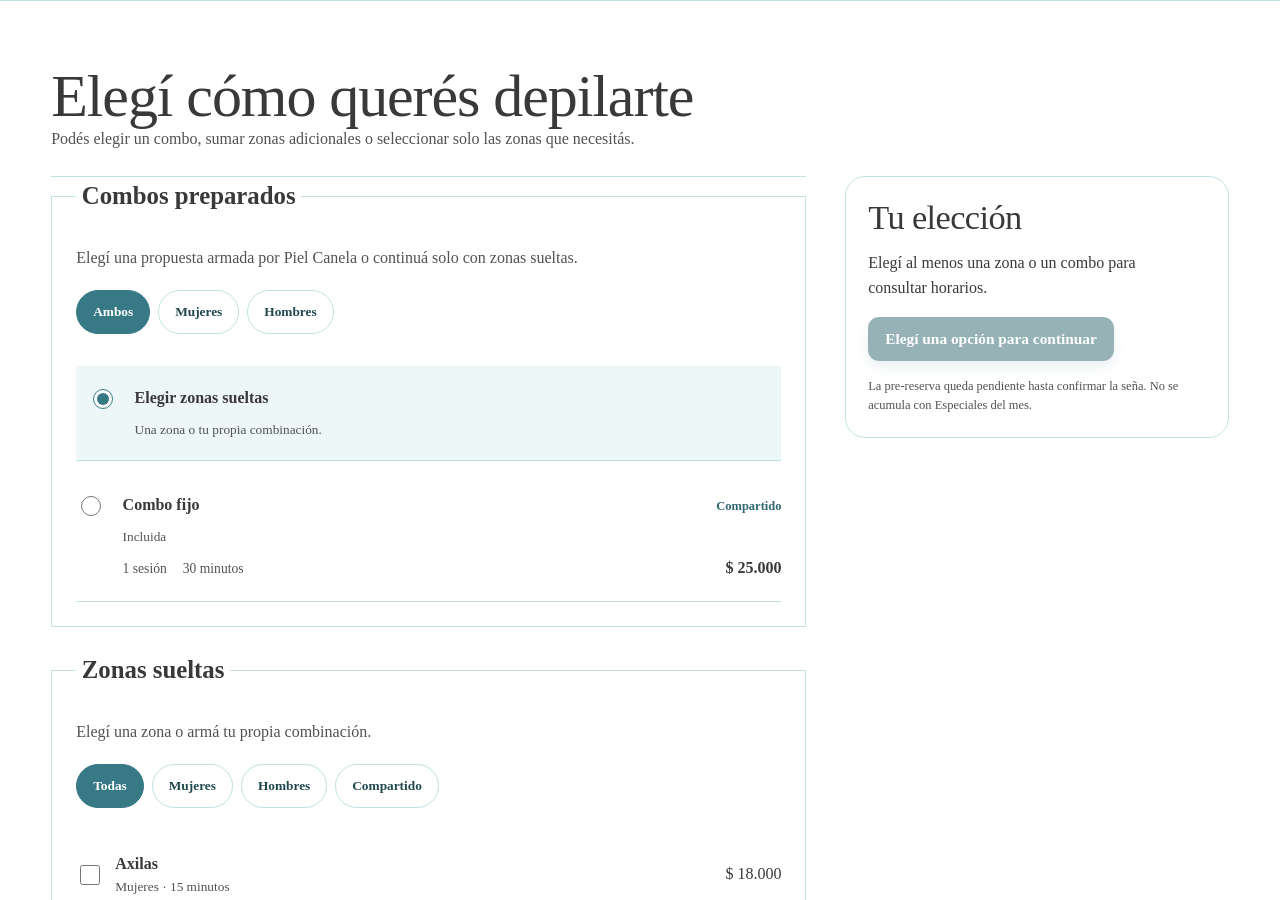
Test case: depilation order selector › discounts loose selections and preserves them across audience filters
Click the checkbox labelled "Axilas Mujeres · 15 minutos $ 18.000". click: (90, 875)
box: [80,865,100,885]
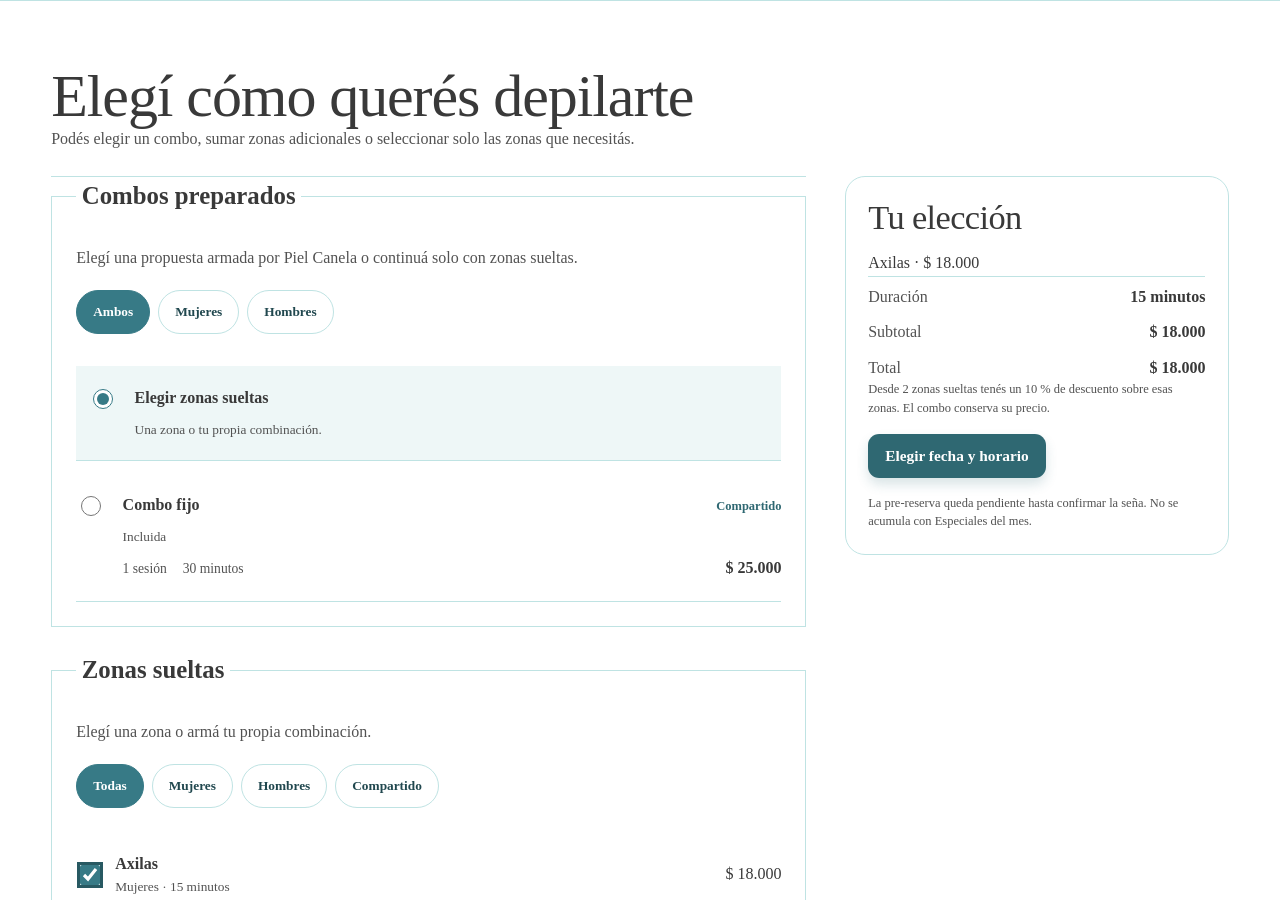
Click the 2nd button "Hombres". click: (284, 786)
box: [241,764,327,808]
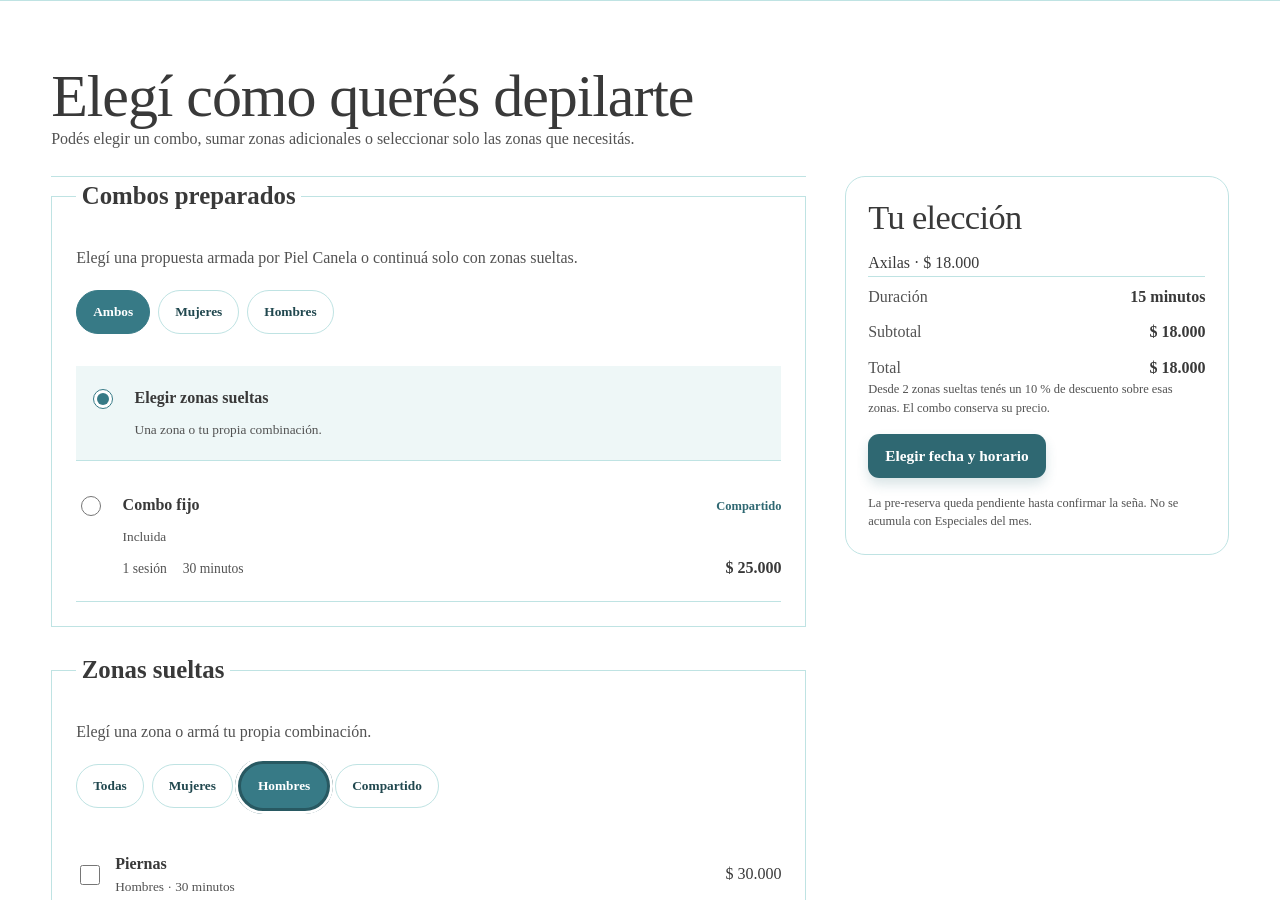
Click the checkbox labelled "Piernas Hombres · 30 minutos $ 30.000". click: (90, 875)
box: [80,865,100,885]
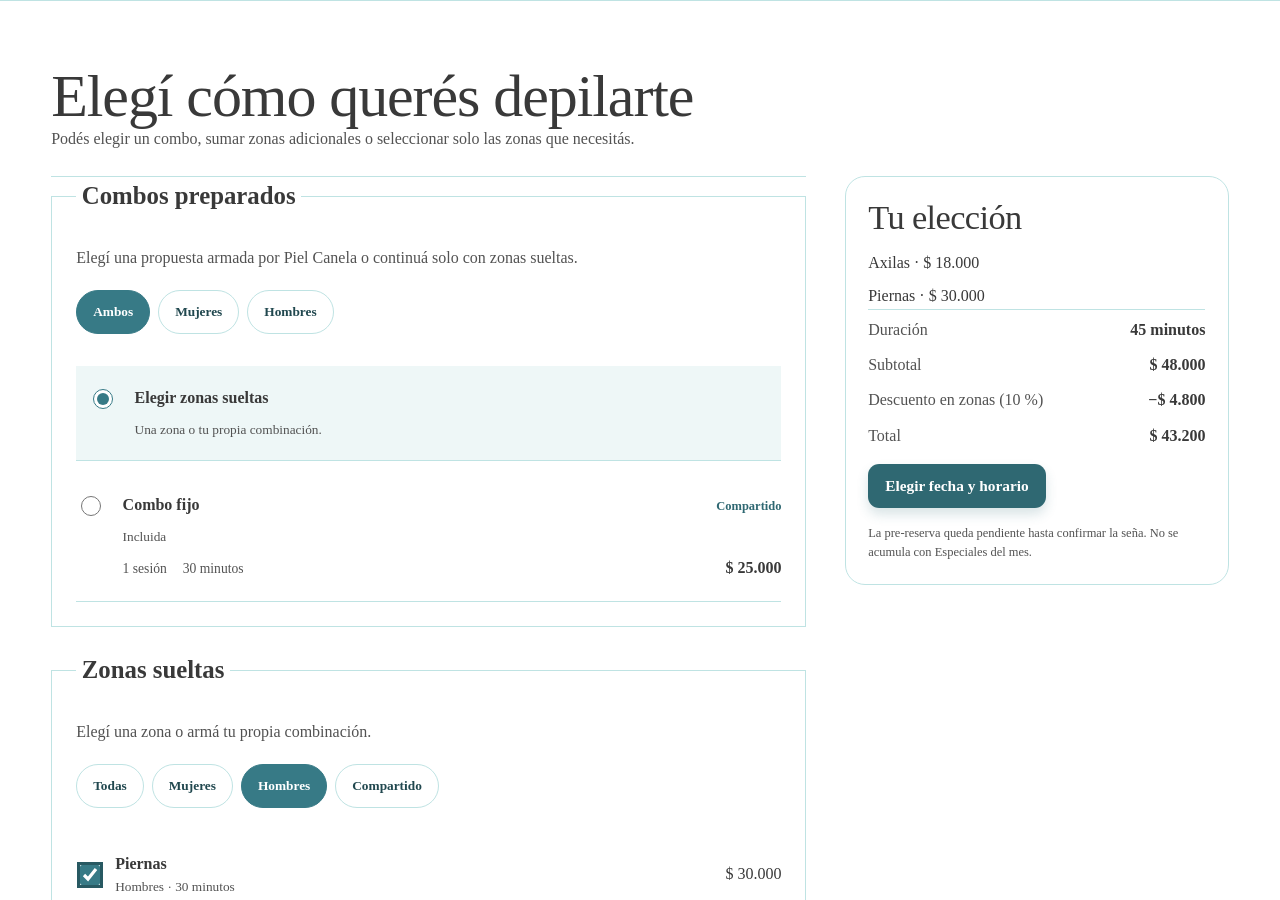
expect the text "$ 43.200" is shown: met, box [1149,424,1205,448]
expect the text "Descuento en zonas (10 %)" is shown: met, box [868,388,1043,413]
expect the text "45 minutos" is shown: met, box [1130,318,1205,343]
